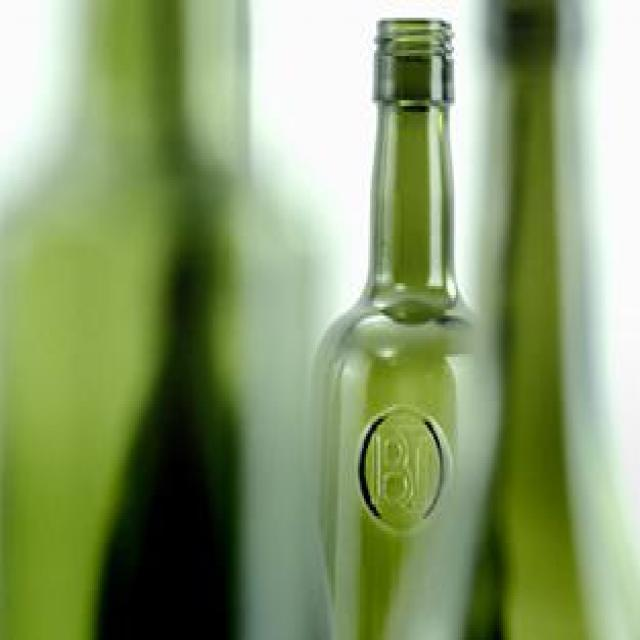glass: (307, 17, 506, 640)
